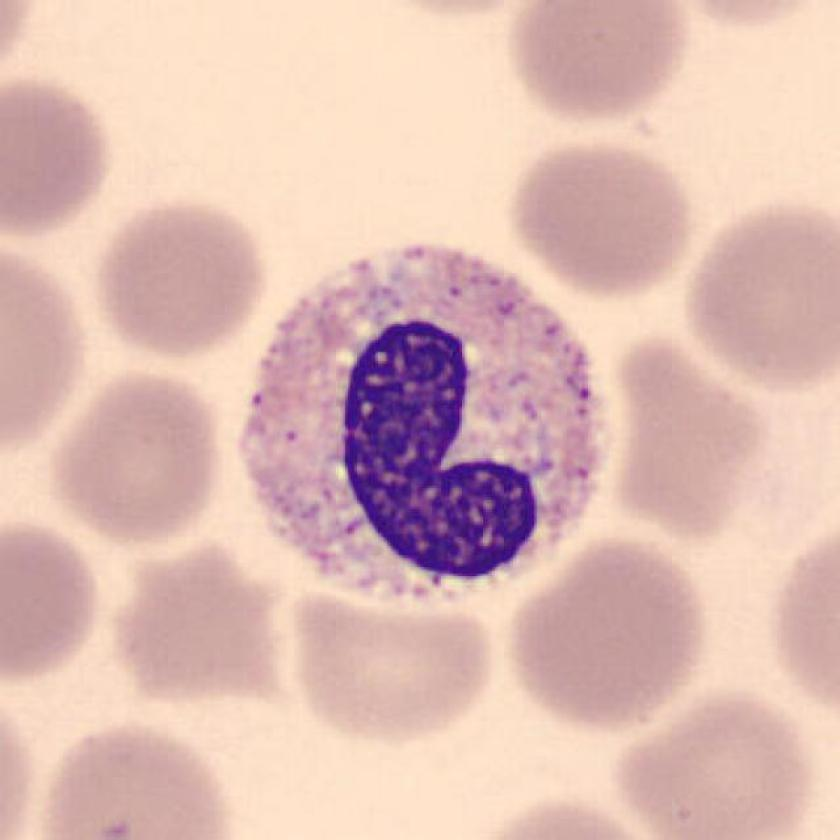neutrophil: (241, 244, 600, 602)
